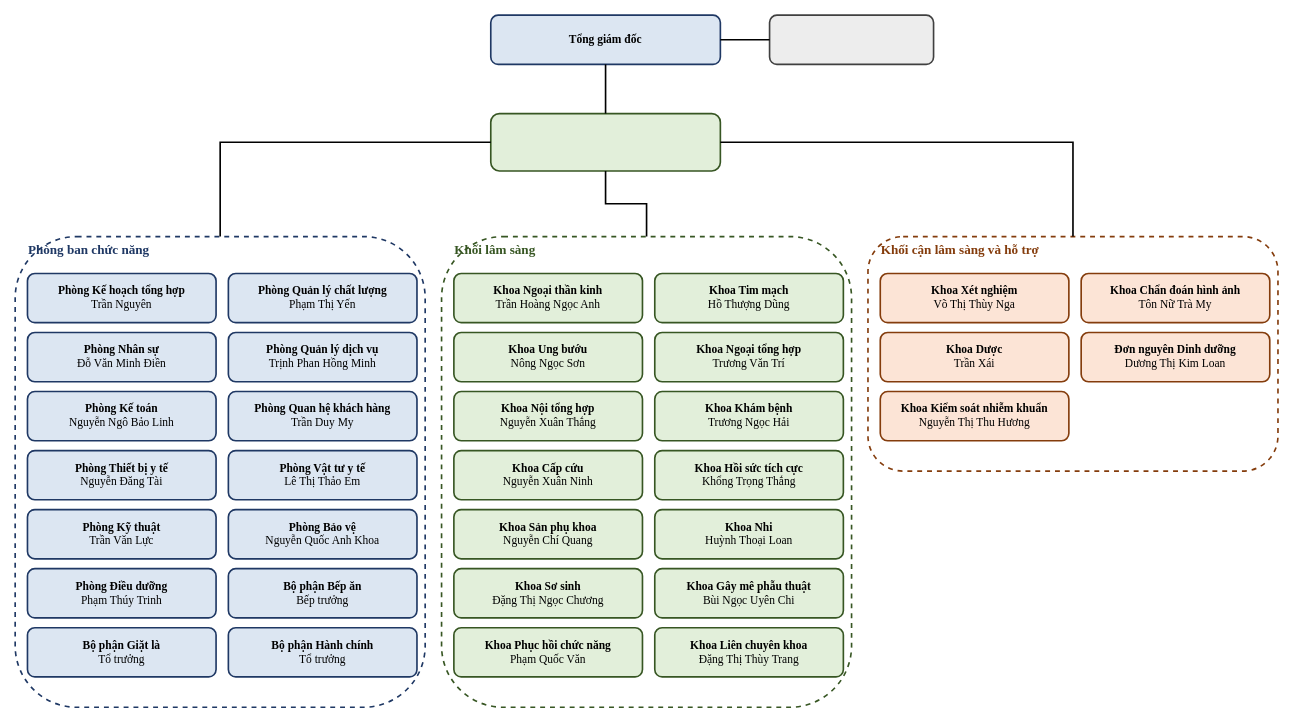
The diagram is 1292 pixels wide and 722 high, and some of its shapes have lost their labels. The shapes that lost their labels are listed below. From the top down, each one's centre as x and y in pixels, then its label:
At (x=851, y=39): "Thư ký Tổng giám đốc".
At (x=605, y=141): "Giám đốc bệnh viện Lê Quan Anh Tuấn".
